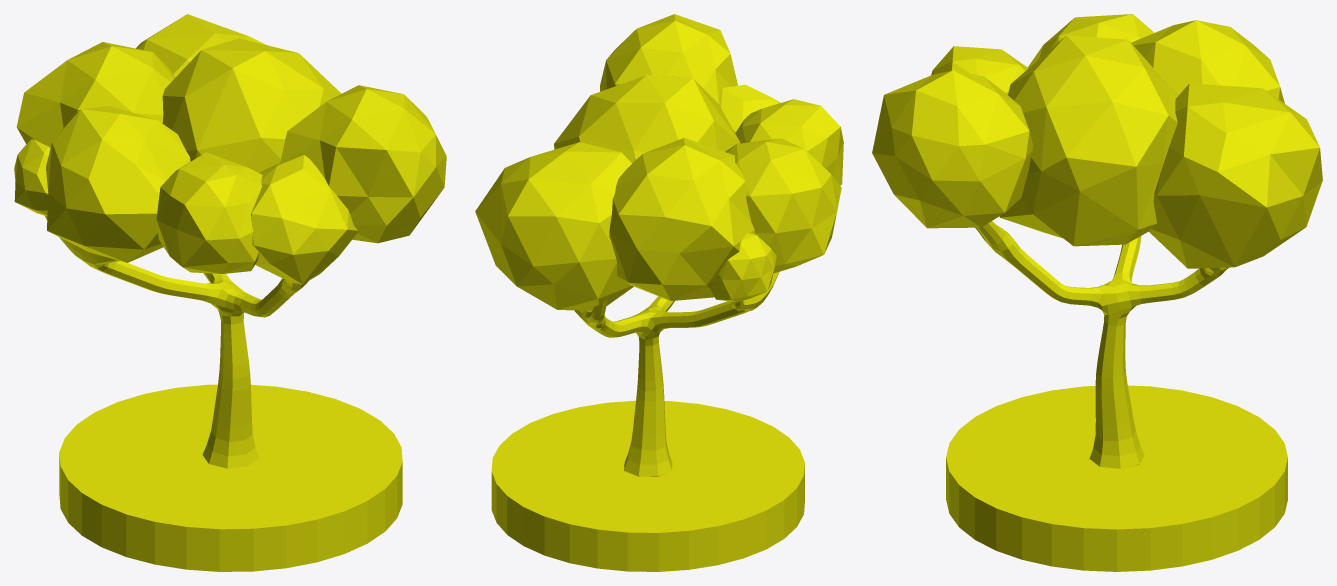
File: JHO_GardenGuardianTrophy.fbx
3 views of the same model, side by side, from view 1: azimuth 30°, elevation 25°; view 2: azimuth 150°, elevation 25°; view 3: azimuth 270°, elevation 25° (orthographic). The views are drawn at different scales.
Visible parts, largest first — view 1: Icosphere.002; view 2: Icosphere.002; view 3: Icosphere.002.
Part boxes in pixels (x1=…): Icosphere.002: x1=14, y1=14, x2=446, y2=571; Icosphere.002: x1=475, y1=14, x2=843, y2=571; Icosphere.002: x1=872, y1=14, x2=1322, y2=571.
Size of the model in its own units: 508 by 659 by 592.
